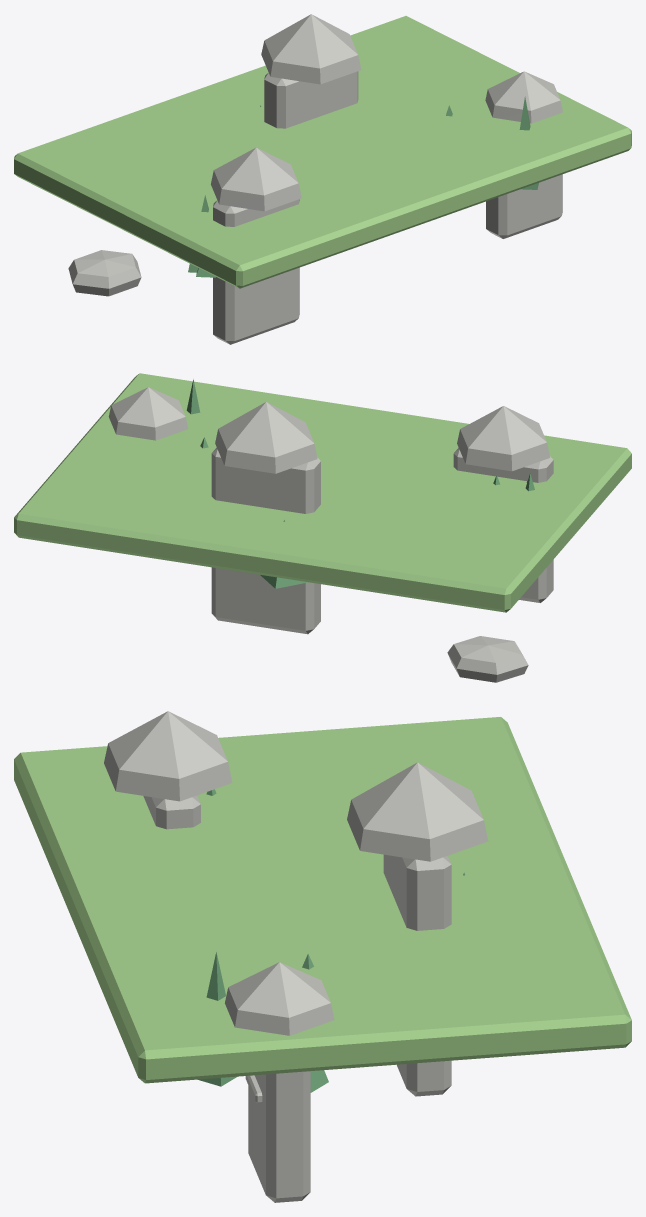
The model's file is town_gravestone_set.glb.
The picture shows the model from 3 angles, top to bottom: view 1: azimuth 30°, elevation 25°; view 2: azimuth 150°, elevation 25°; view 3: azimuth 270°, elevation 25°; orthographic projection. The views are drawn at different scales.
Parts seen in each view (by area): view 1: world; view 2: world; view 3: world.
Part boxes in pixels (left/top/right/bottom): world: left=14, top=14, right=631, bottom=344; world: left=14, top=373, right=631, bottom=682; world: left=14, top=711, right=631, bottom=1202.
Size of the model in its own units: 2 by 0.8403 by 1.54.
